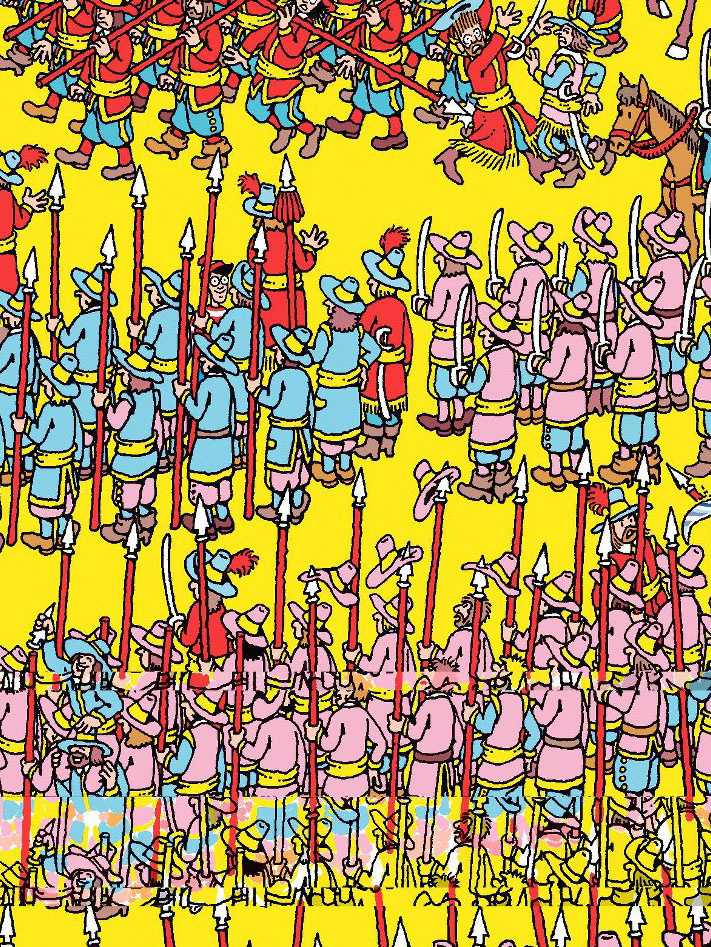waldo: (197, 252, 233, 305)
